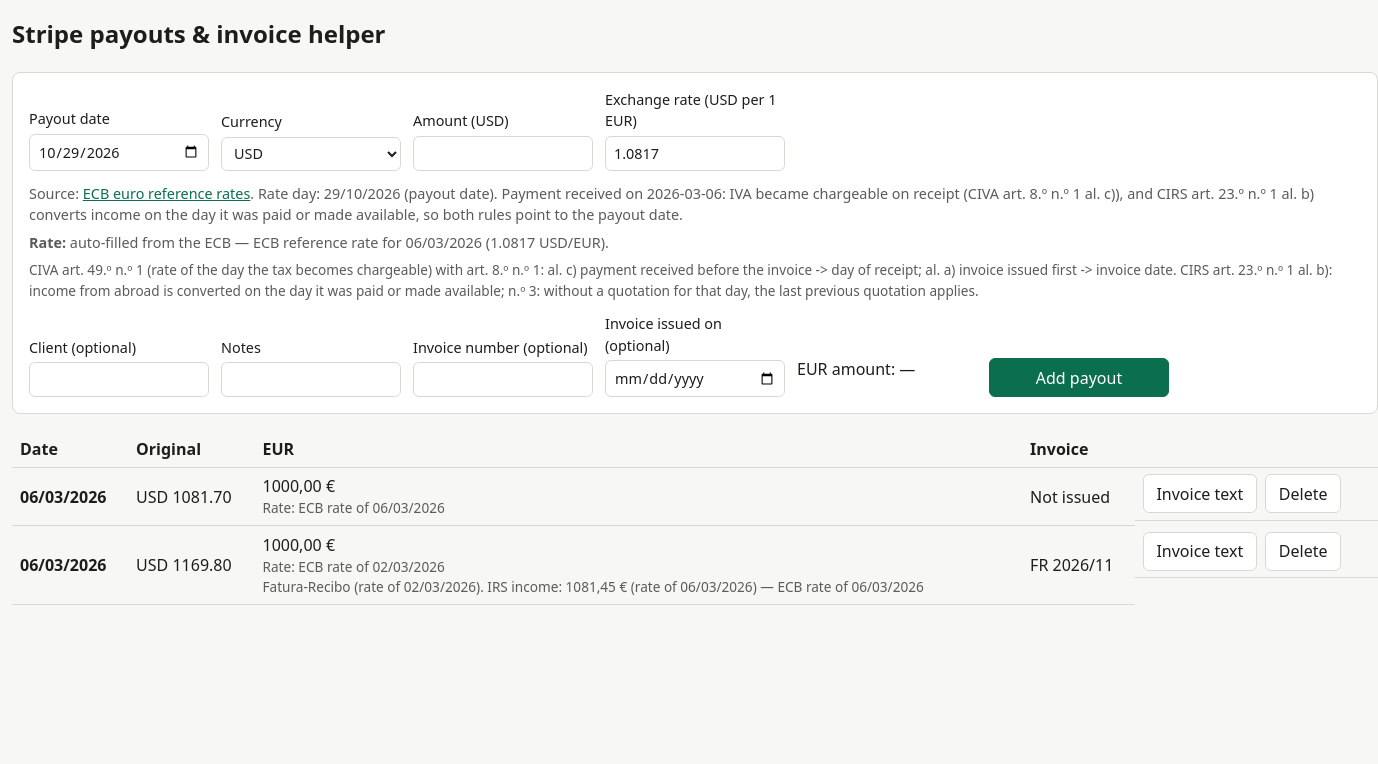
invoice helper › opens for a listed payout and marks its row as selected
The width and height of the screenshot is (1378, 764).
Click the button "Invoice text" in the row of "1169.80". click: (1200, 551)
box: [1143,532,1257,571]
(page scrolled)
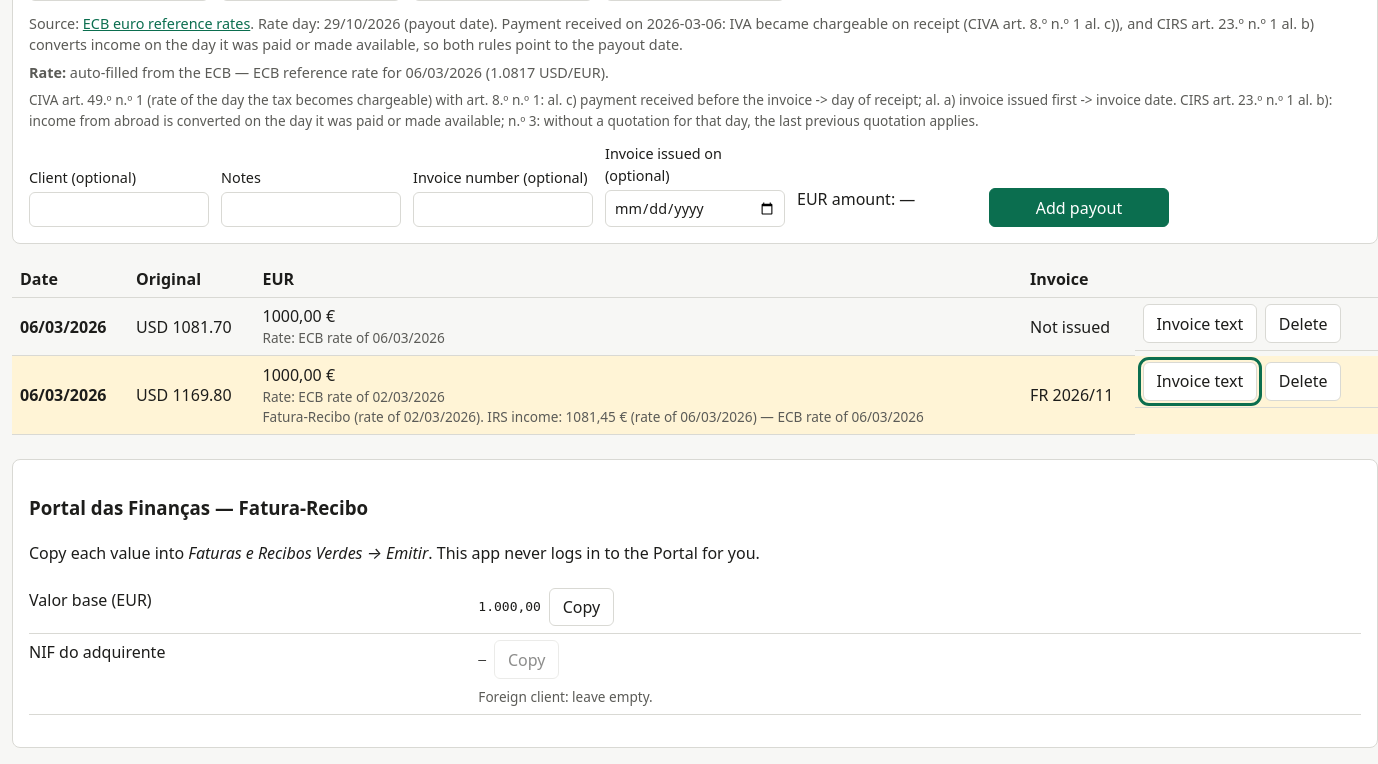
Expected: the text "Valor base (EUR)" is shown, [29,589,152,611]
